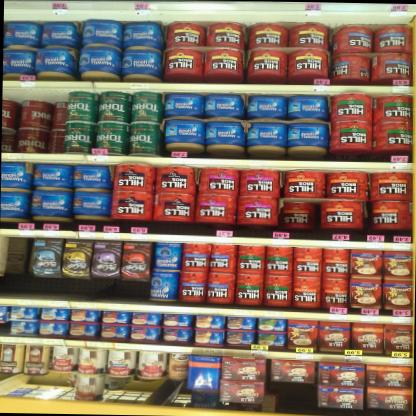empty_space: (0, 236, 33, 297)
